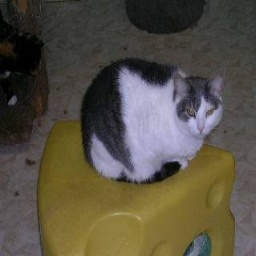cat: (70, 50, 227, 195)
